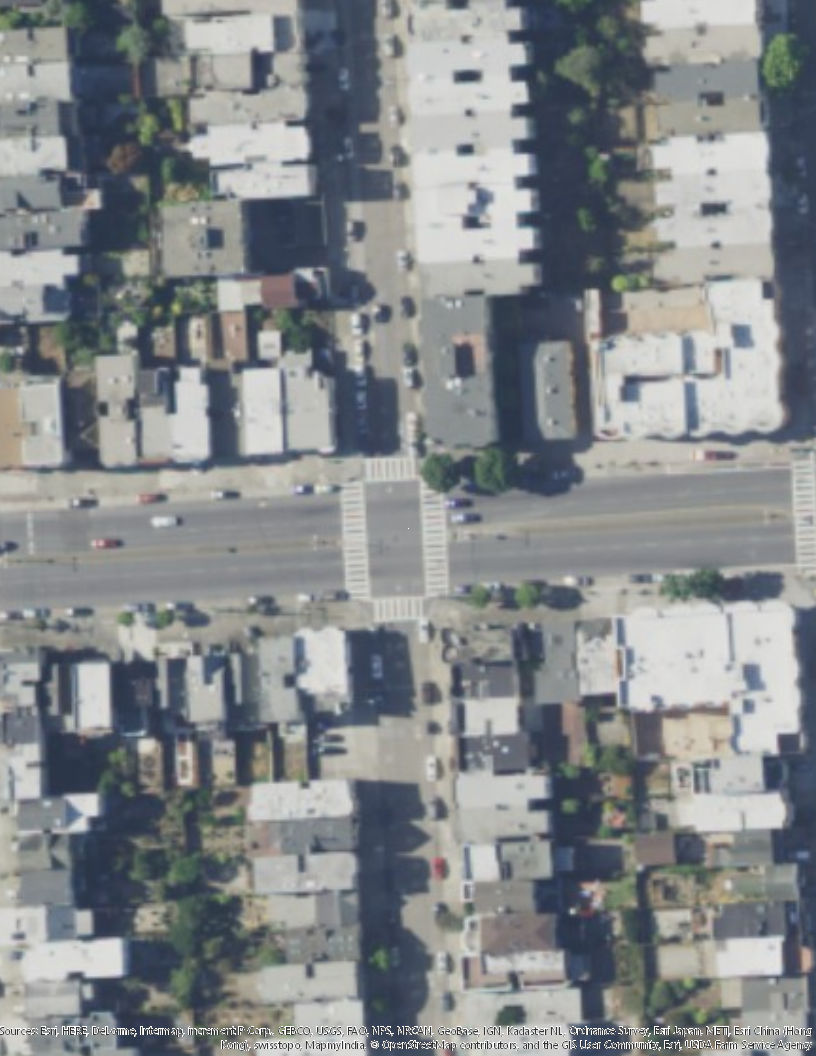zebracross: (338, 486, 375, 598), (417, 480, 451, 599), (789, 452, 816, 566), (363, 454, 424, 484), (377, 593, 428, 621)
